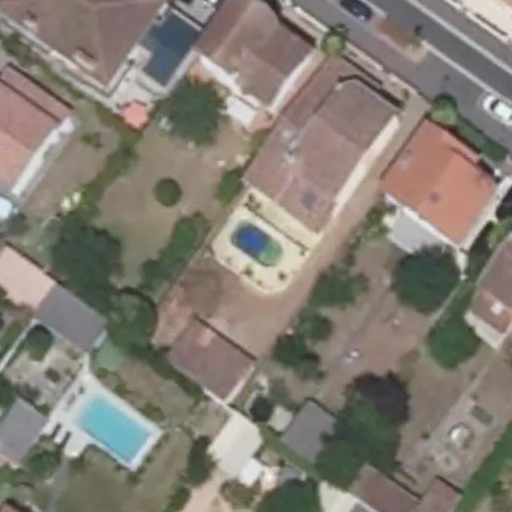pool: (224, 239, 290, 248)
